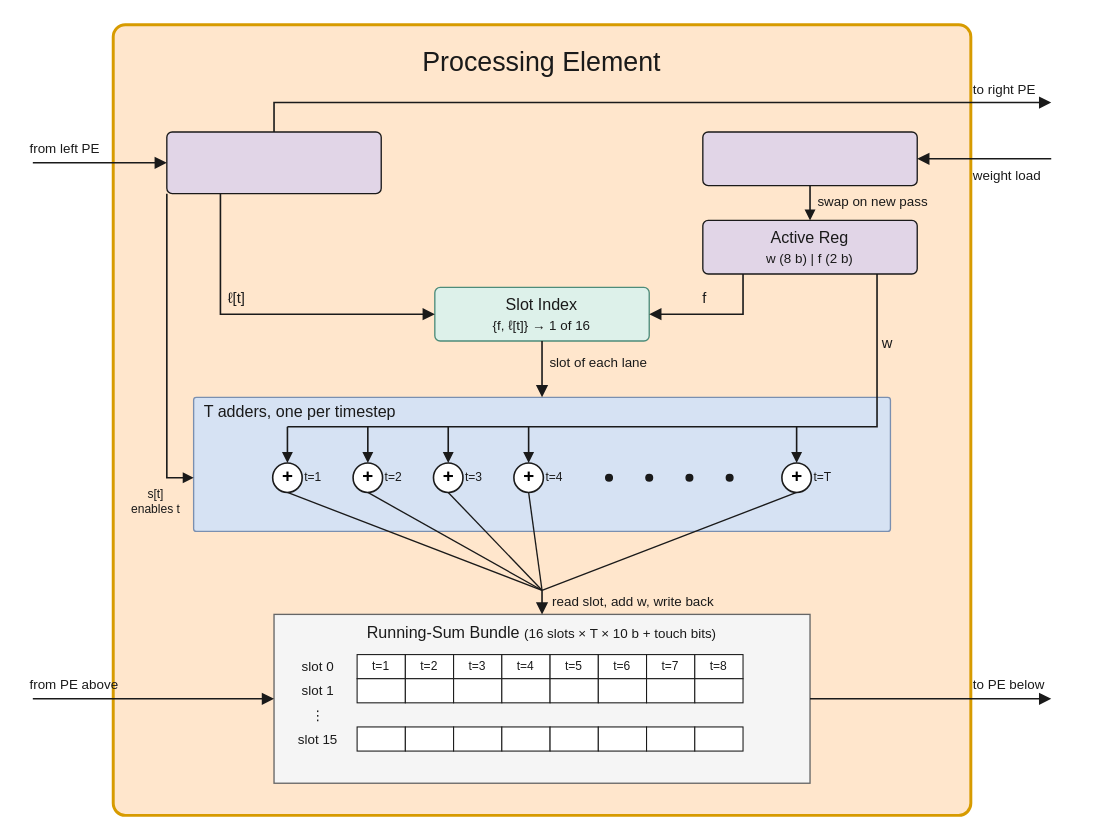
This 1118x840 diagram has some shape labels left out. Here are the shapes that lost their labels. From the top down, the centre of each, then its label:
At (x=273, y=162): "Row Reg s[t], ℓ[t], valid, parity".
At (x=809, y=158): "Shadow Reg next w | f".
